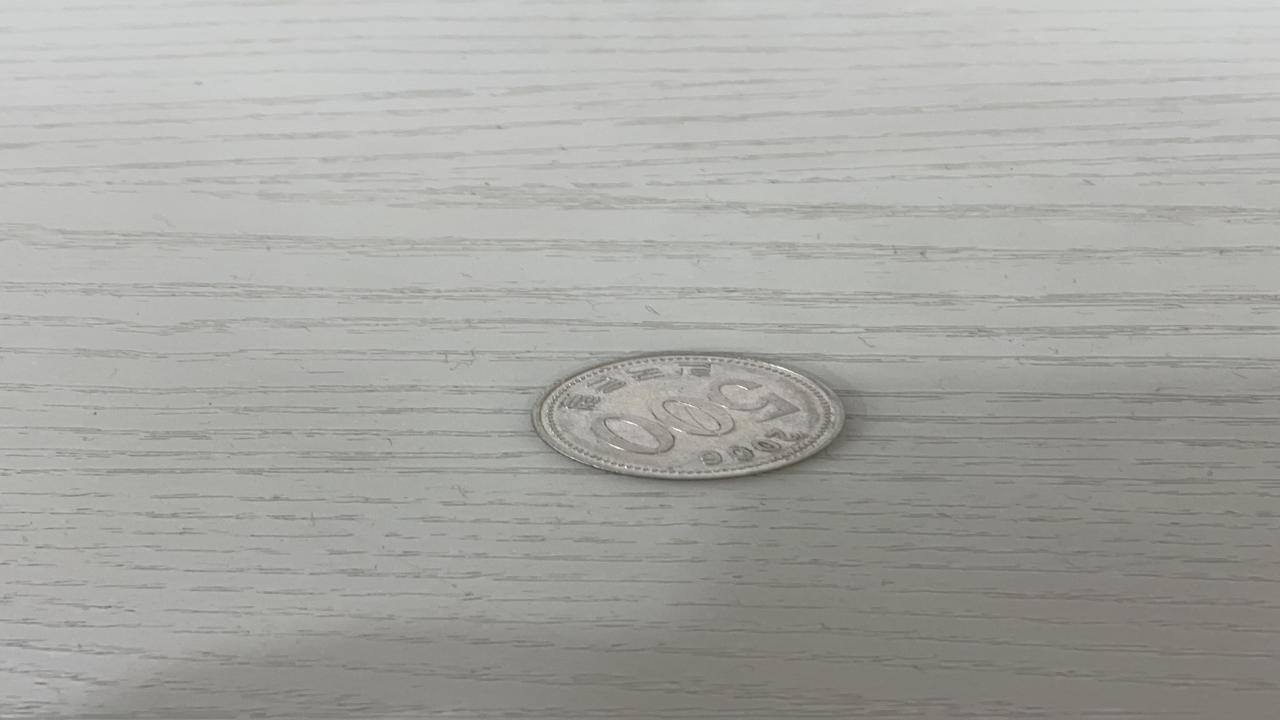coin: (524, 350, 848, 481)
